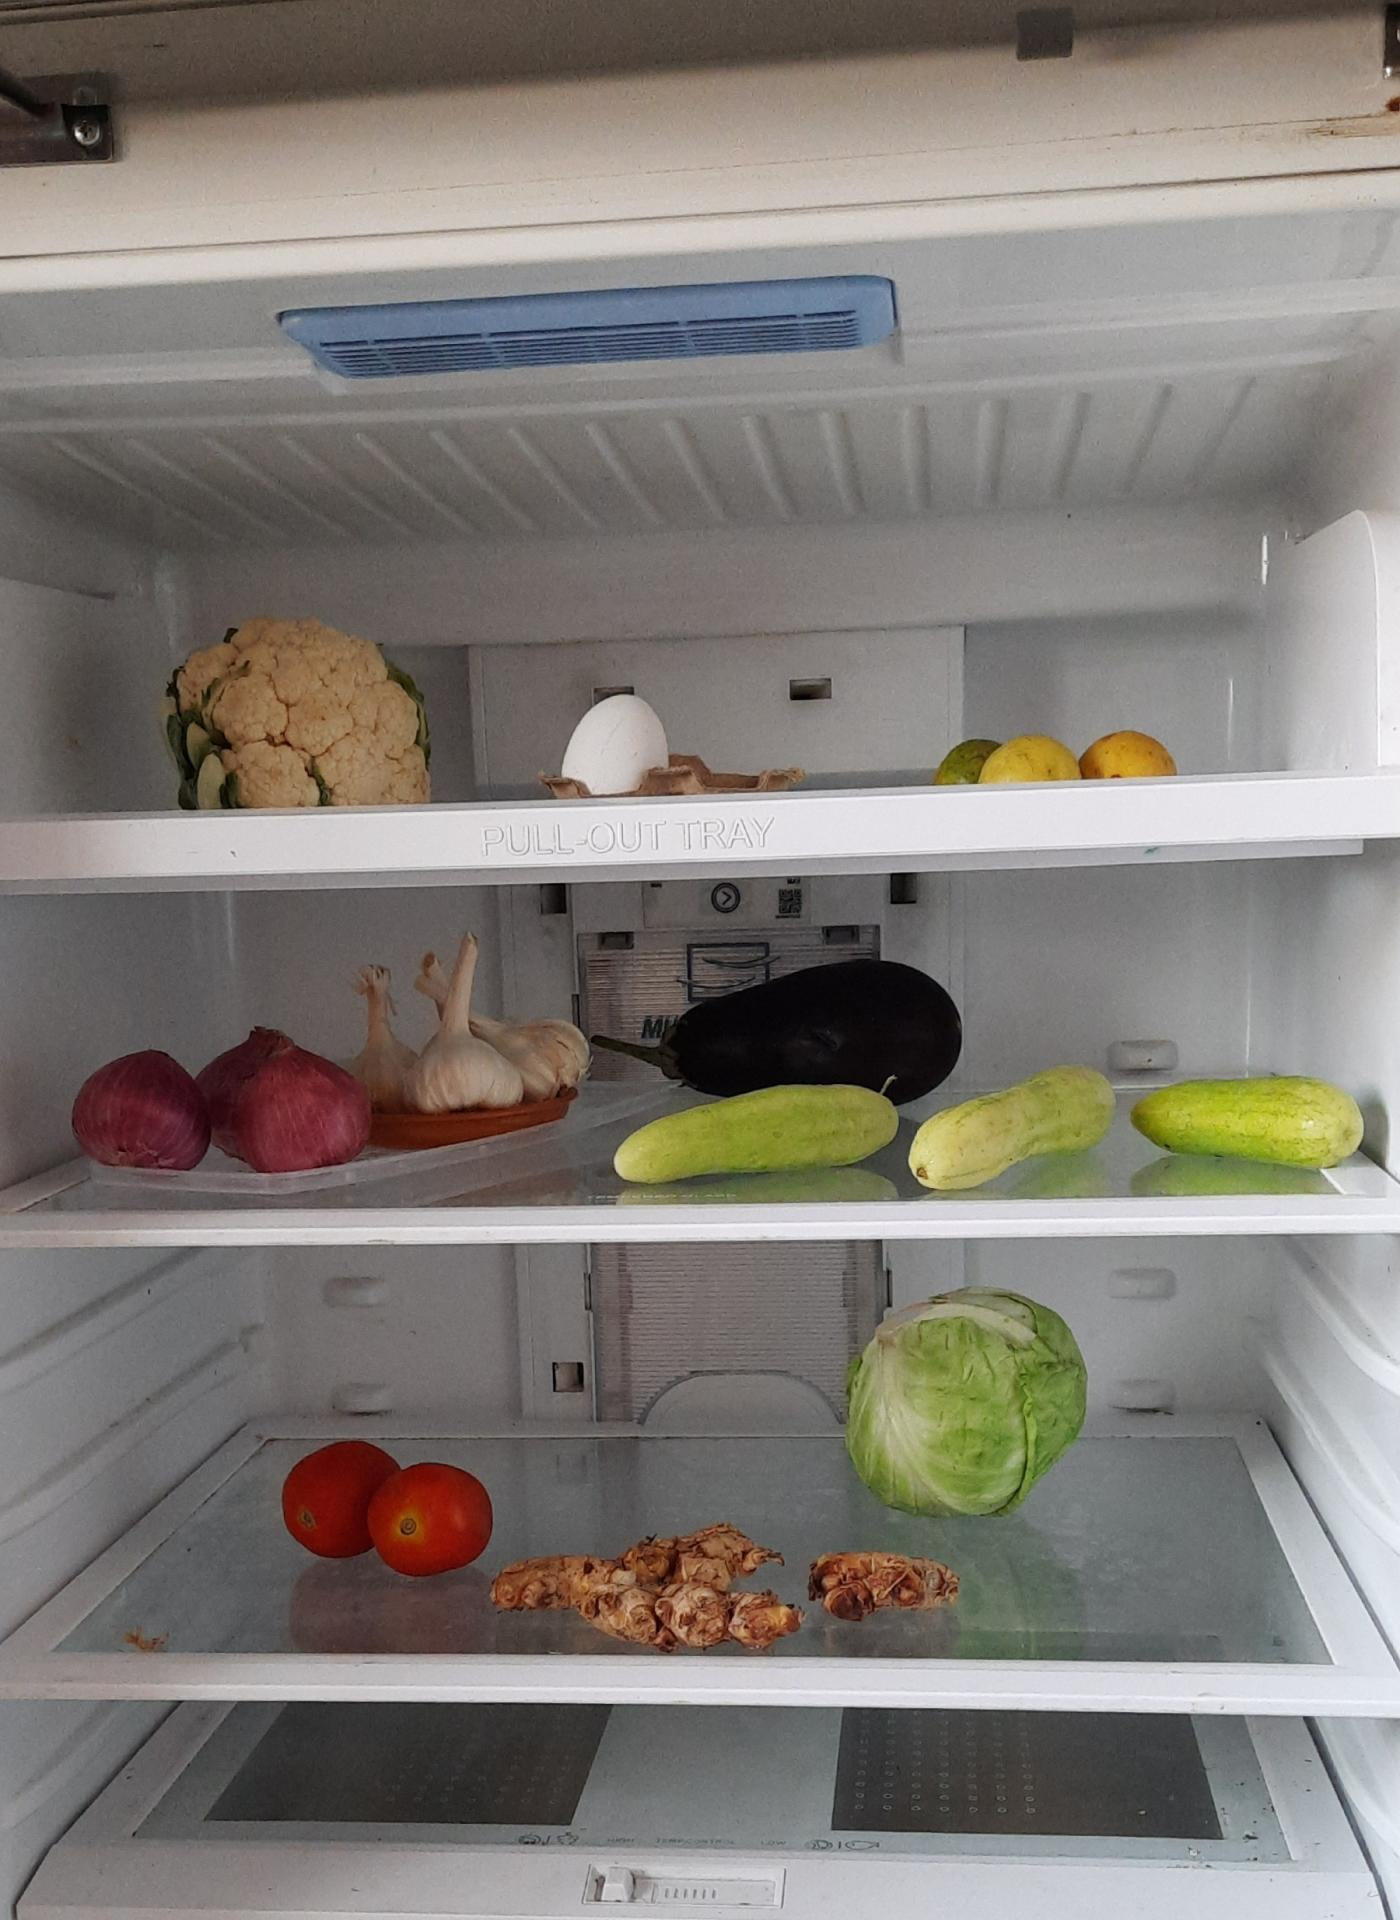brinjal: (613, 950, 975, 1106)
cabbage: (836, 1294, 1088, 1513)
cauliflower: (164, 610, 443, 814)
cucumber: (613, 1082, 901, 1185), (906, 1066, 1123, 1191), (1129, 1073, 1376, 1170)
egg: (559, 683, 675, 809)
garlic: (356, 930, 589, 1112)
ginger: (495, 1528, 963, 1665)
lemon: (930, 719, 1176, 784)
onion: (76, 1027, 364, 1167)
tomato: (282, 1434, 492, 1576)
